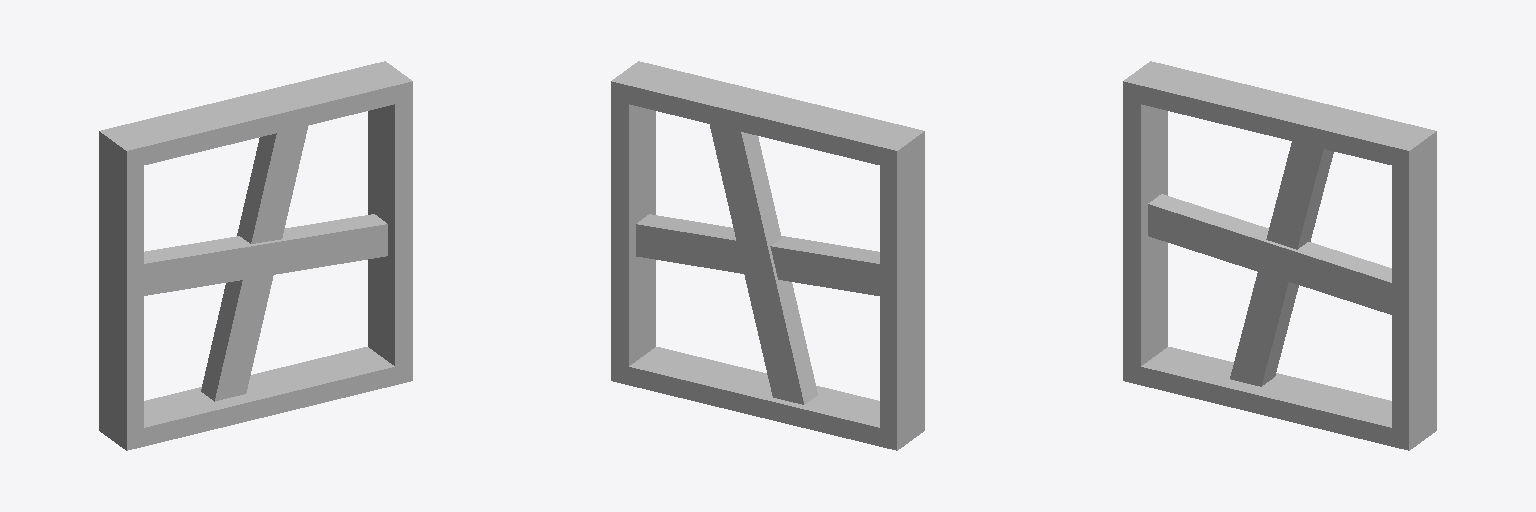
Rendered from window.obj.
The picture shows the model from 3 angles: view 1: azimuth 30°, elevation 25°; view 2: azimuth 150°, elevation 25°; view 3: azimuth 330°, elevation 25°; orthographic projection.
Parts seen in each view (by area): view 1: Cube.002_Cube.005; view 2: Cube.002_Cube.005; view 3: Cube.002_Cube.005.
Boxes of the visible parts, x1,y1,x2,y2 form: Cube.002_Cube.005: [99, 61, 412, 450]; Cube.002_Cube.005: [611, 61, 924, 450]; Cube.002_Cube.005: [1123, 61, 1436, 450].
Bounding box in the file's own units: 1.2 × 1.2 × 0.2.